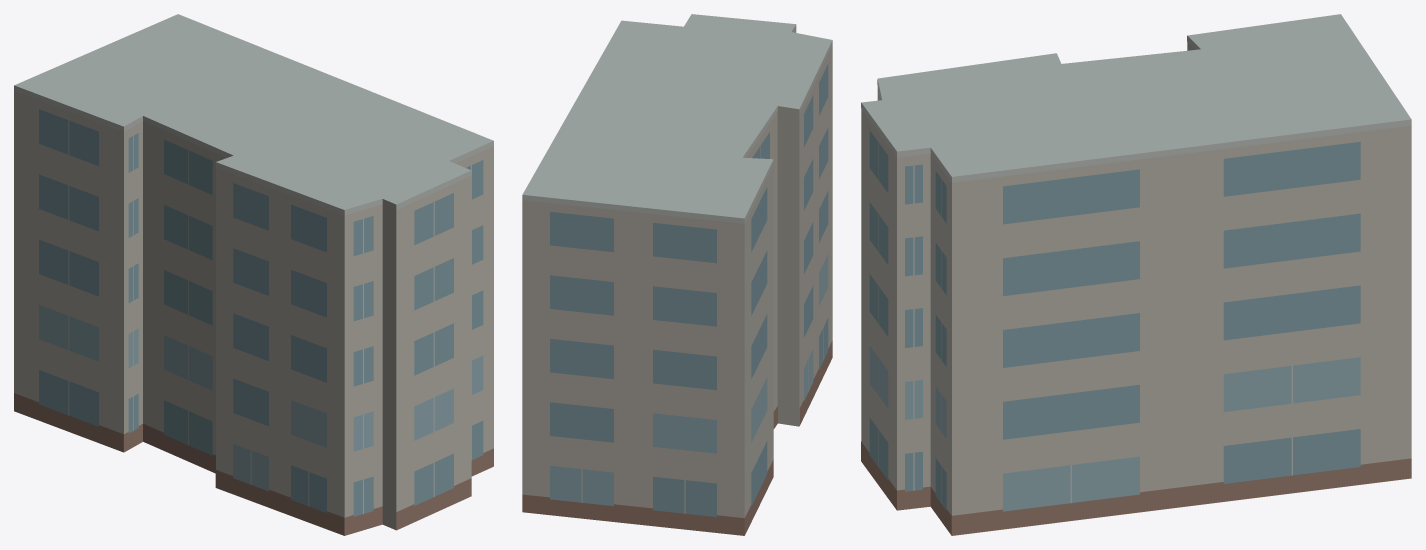
The model's file is survey-upis-32641305.glb.
The picture shows the model from 3 angles, left to right: view 1: azimuth 30°, elevation 25°; view 2: azimuth 150°, elevation 25°; view 3: azimuth 270°, elevation 25°; orthographic projection. The views are drawn at different scales.
Parts seen in each view (by area): view 1: survey-upis-32641305.tmp; view 2: survey-upis-32641305.tmp; view 3: survey-upis-32641305.tmp.
Part boxes in pixels (box(x1,y1,x2,y2)): survey-upis-32641305.tmp: box(14, 14, 493, 535); survey-upis-32641305.tmp: box(522, 14, 832, 535); survey-upis-32641305.tmp: box(861, 14, 1411, 535).
Size of the model in its own units: 14.23 by 14.61 by 20.31.
